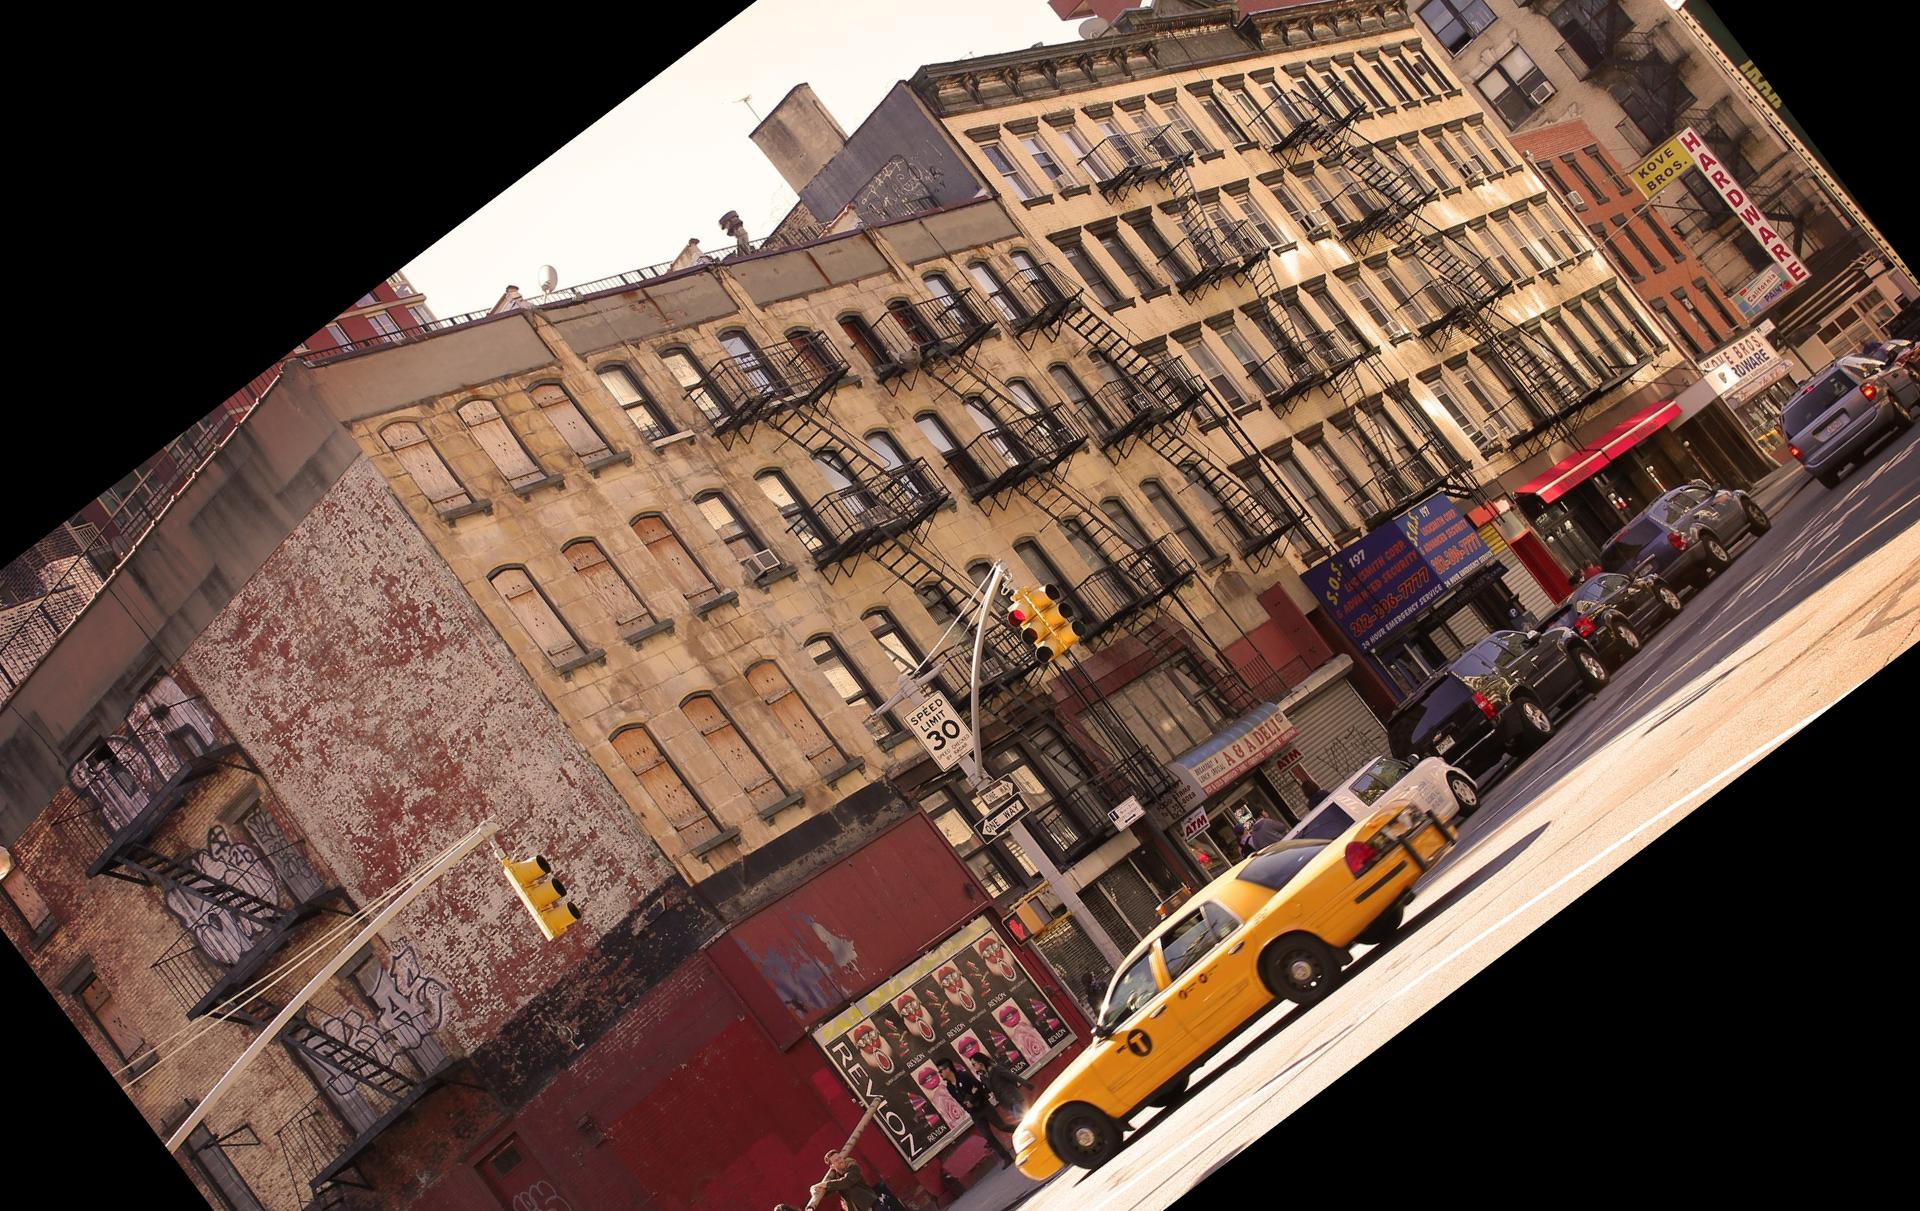taxi: (1007, 804, 1439, 1183)
